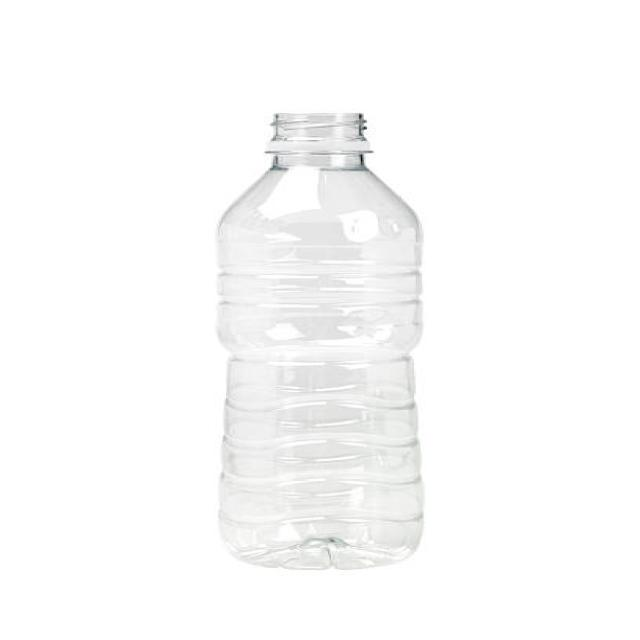plastic: (199, 109, 441, 574)
